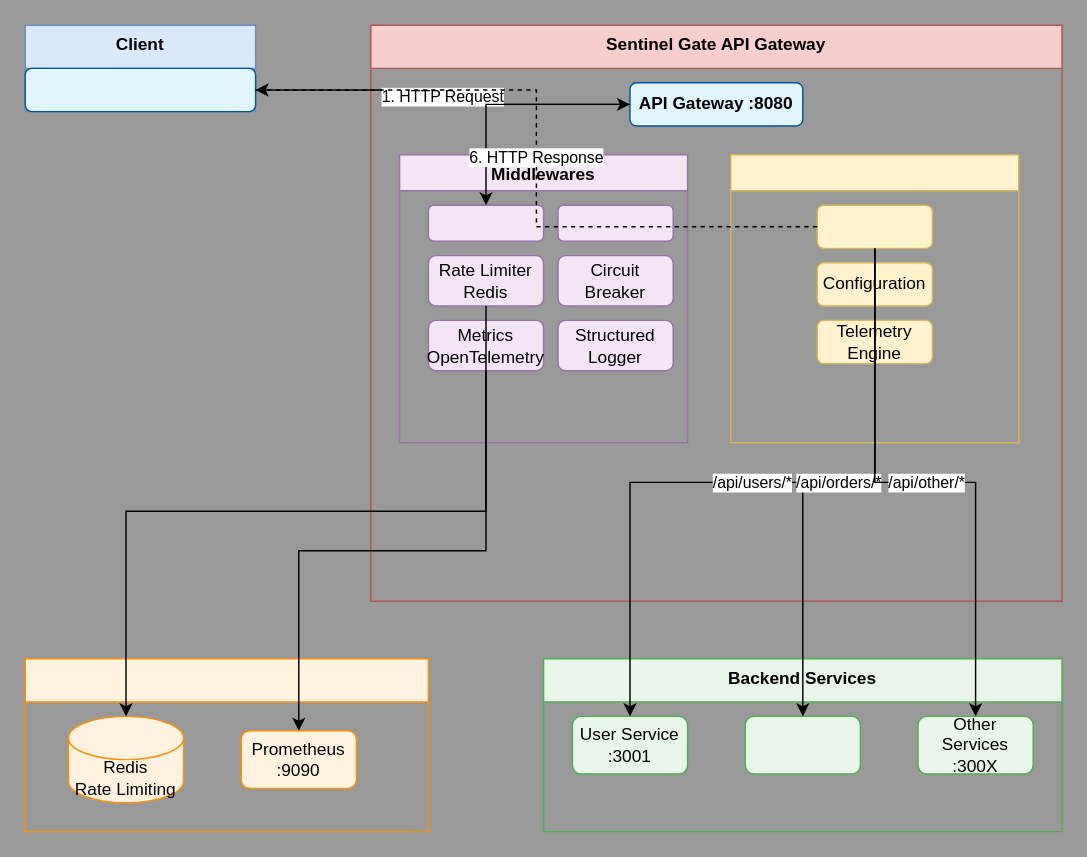
Image size: 1087x857. Some labels were removed from this diagram. The shapes that lost their labels are listed below. From the top down, each one's box as (x1, y1, x2, y2) in pixels, then its label:
(24, 67, 256, 112): Client/Frontend
(427, 204, 544, 241): CORS
(557, 204, 673, 241): JWT Auth
(816, 204, 932, 248): Reverse Proxy
(729, 153, 1019, 443): Core Components
(24, 657, 428, 832): External Services
(744, 715, 860, 774): Order Service :3002
